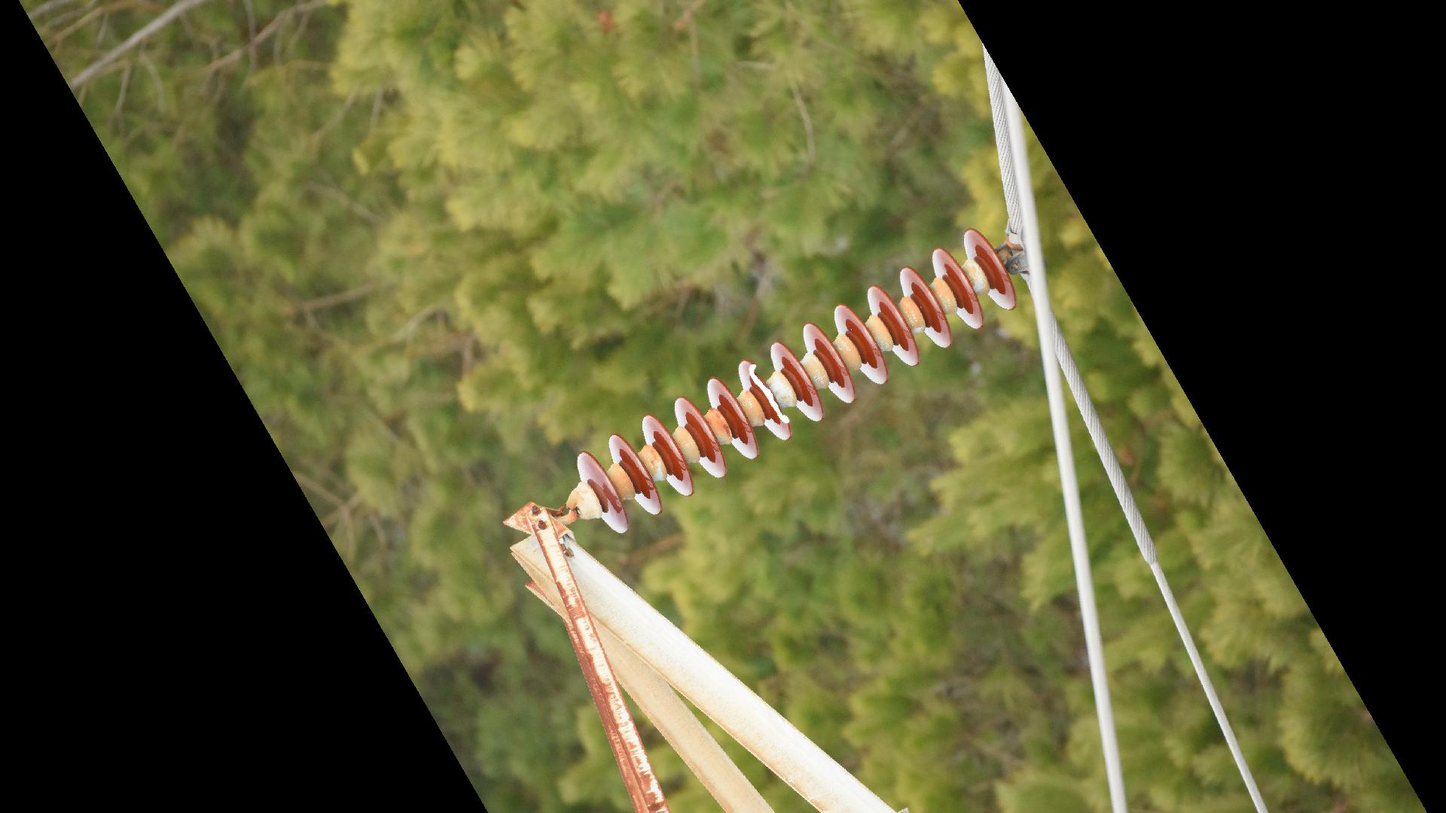insulator: (568, 221, 1022, 540)
insulator_breakage: (741, 360, 798, 429)
